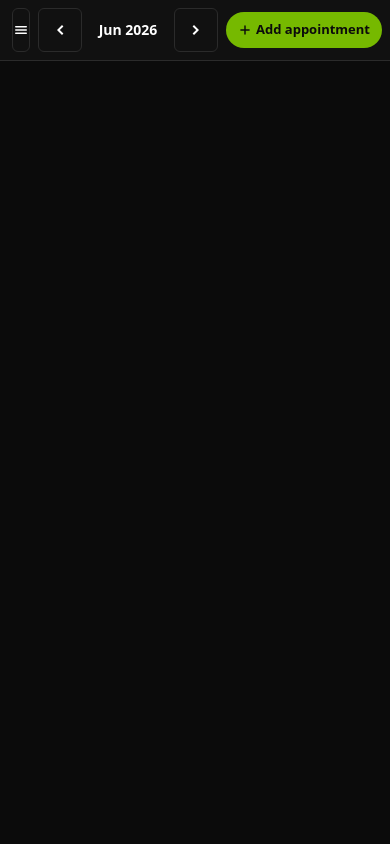
Test: CalendarHeader — mobile bar › opens the drawer when hamburger is clicked
What coordinates should you click on to do the following:
click the button named "menu"
I would click on:
 (21, 30)
Its box is [12,8,30,52].
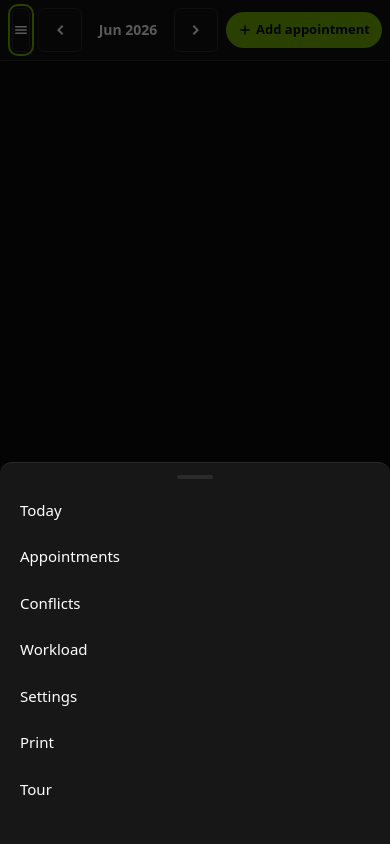
Expected: the dialog named "menu" is shown, [0,462,389,843]
